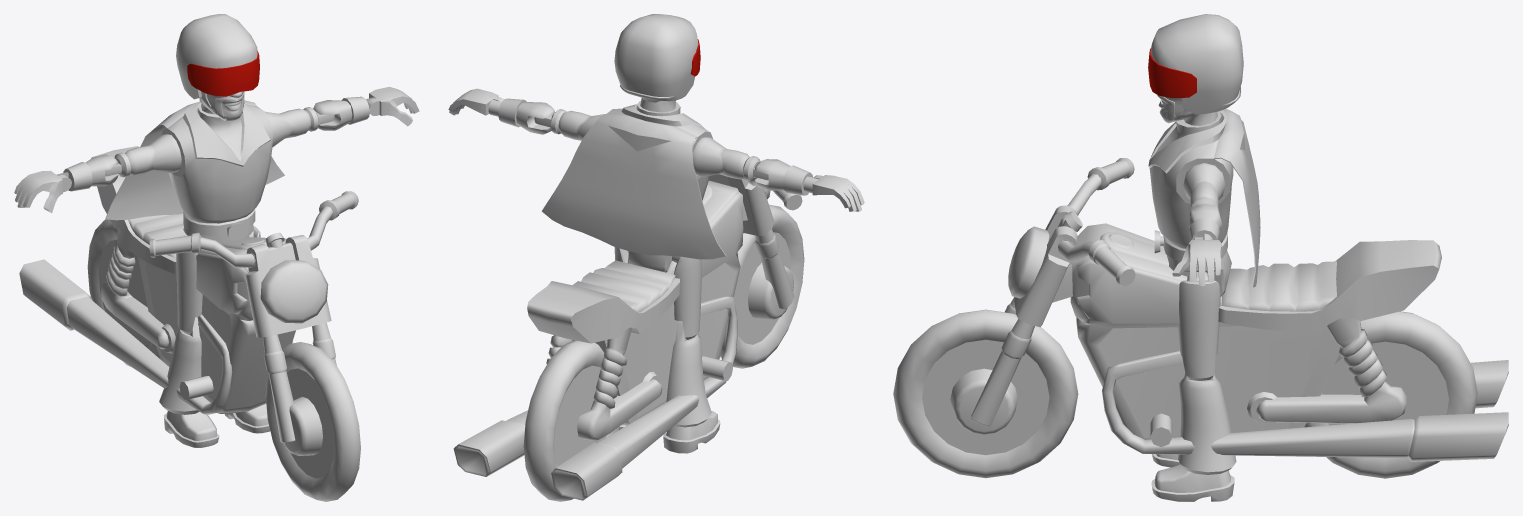
File: DukeCaboom.fbx
3 renders of one model, left to right at view 1: azimuth 30°, elevation 25°; view 2: azimuth 150°, elevation 25°; view 3: azimuth 270°, elevation 25°, orthographic. The views are drawn at different scales.
Parts seen in each view (by area): view 1: ImageToStl_com_u_caboom:Mesh; view 2: ImageToStl_com_u_caboom:Mesh; view 3: ImageToStl_com_u_caboom:Mesh.
Boxes of the visible parts, bbox=[...] form: ImageToStl_com_u_caboom:Mesh: bbox=[14, 14, 419, 501]; ImageToStl_com_u_caboom:Mesh: bbox=[448, 14, 864, 501]; ImageToStl_com_u_caboom:Mesh: bbox=[893, 14, 1508, 501].
Size of the model in its own units: 1.83 by 1.78 by 2.17.
